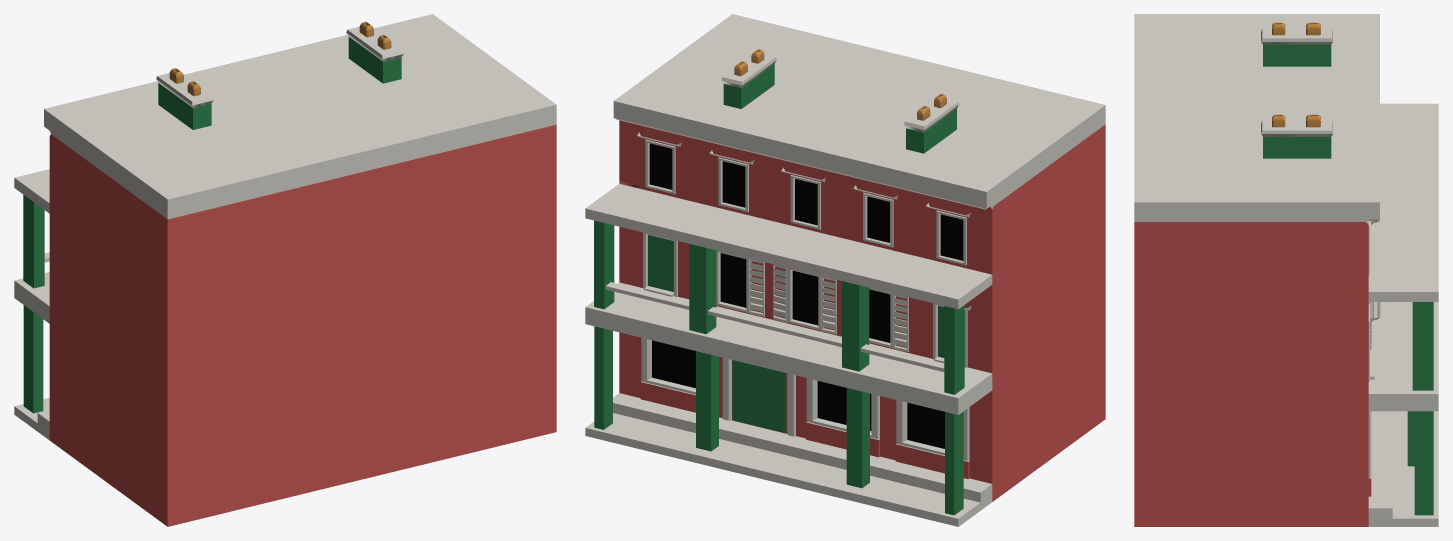
Rendered from Enviro_Building_CreoleHouse3_Untextured.fbx.
The picture shows the model from 3 angles, left to right: view 1: azimuth 30°, elevation 25°; view 2: azimuth 150°, elevation 25°; view 3: azimuth 270°, elevation 25°; orthographic projection. The views are drawn at different scales.
Visible parts, largest first — view 1: House_TownHouse; view 2: House_TownHouse; view 3: House_TownHouse.
Boxes of the visible parts, left/top/right/bottom form: House_TownHouse: left=14, top=14, right=556, bottom=526; House_TownHouse: left=585, top=14, right=1105, bottom=526; House_TownHouse: left=1134, top=14, right=1438, bottom=526.
Size of the model in its own units: 15.1 by 13.59 by 10.32.
